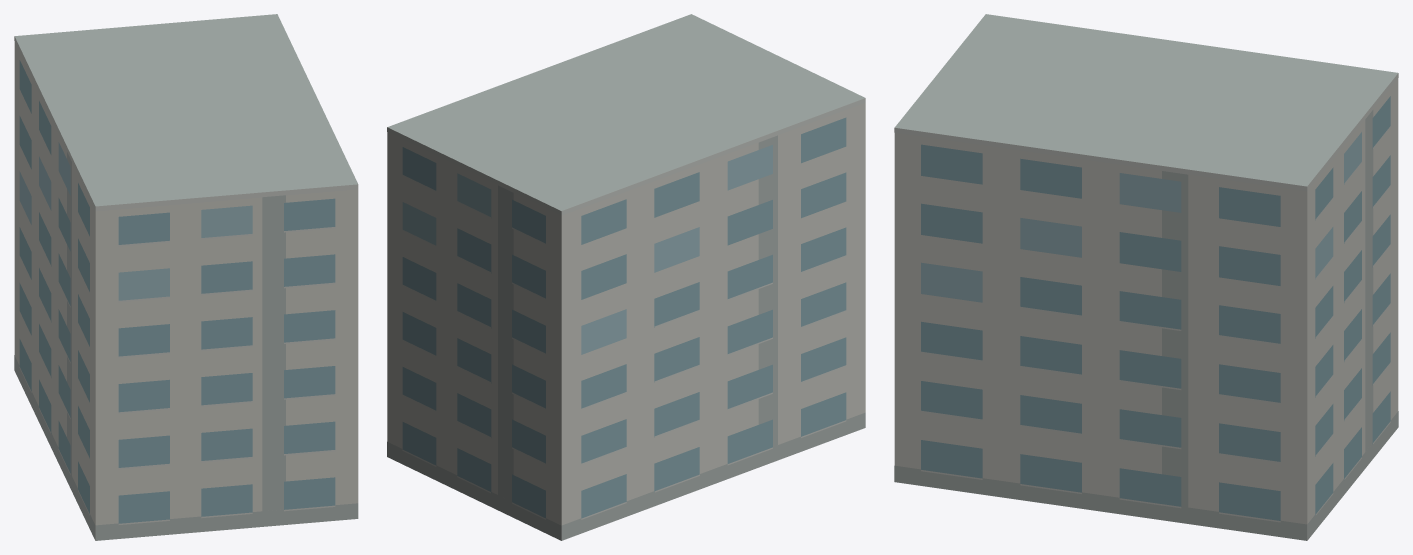
Rendered from survey-upis-32951898.glb.
The picture shows the model from 3 angles, left to right: view 1: azimuth 30°, elevation 25°; view 2: azimuth 150°, elevation 25°; view 3: azimuth 270°, elevation 25°; orthographic projection. The views are drawn at different scales.
Visible parts, largest first — view 1: survey-upis-32951898.tmp; view 2: survey-upis-32951898.tmp; view 3: survey-upis-32951898.tmp.
Boxes of the visible parts, bbox=[...] form: survey-upis-32951898.tmp: bbox=[14, 14, 358, 540]; survey-upis-32951898.tmp: bbox=[387, 14, 865, 540]; survey-upis-32951898.tmp: bbox=[894, 14, 1398, 540].
Size of the model in its own units: 17.65 by 16.9 by 21.79.
